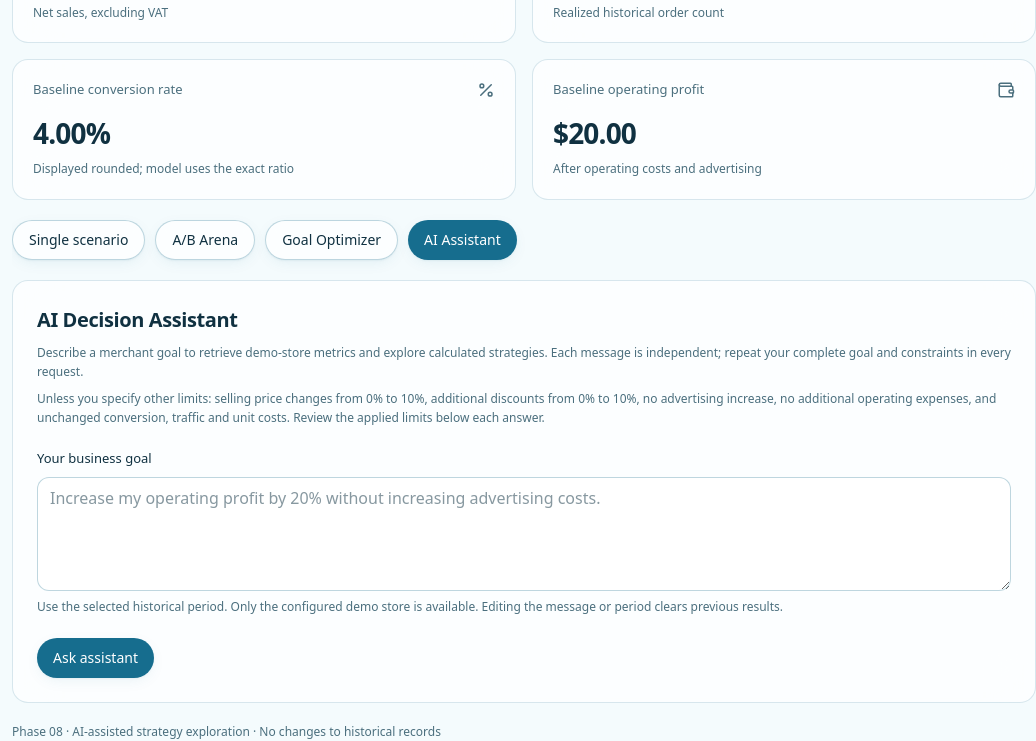
it: decision assistant workflow › shows clarifications without invented metrics or a transfer action
(page scrolled)
Check: the button "Ask assistant" is enabled, box left=37, top=638, right=154, bottom=678
Step 1. Replace the text in the text box labelled "Your business goal" with "Help improve my store." → (524, 534), box left=37, top=477, right=1011, bottom=591
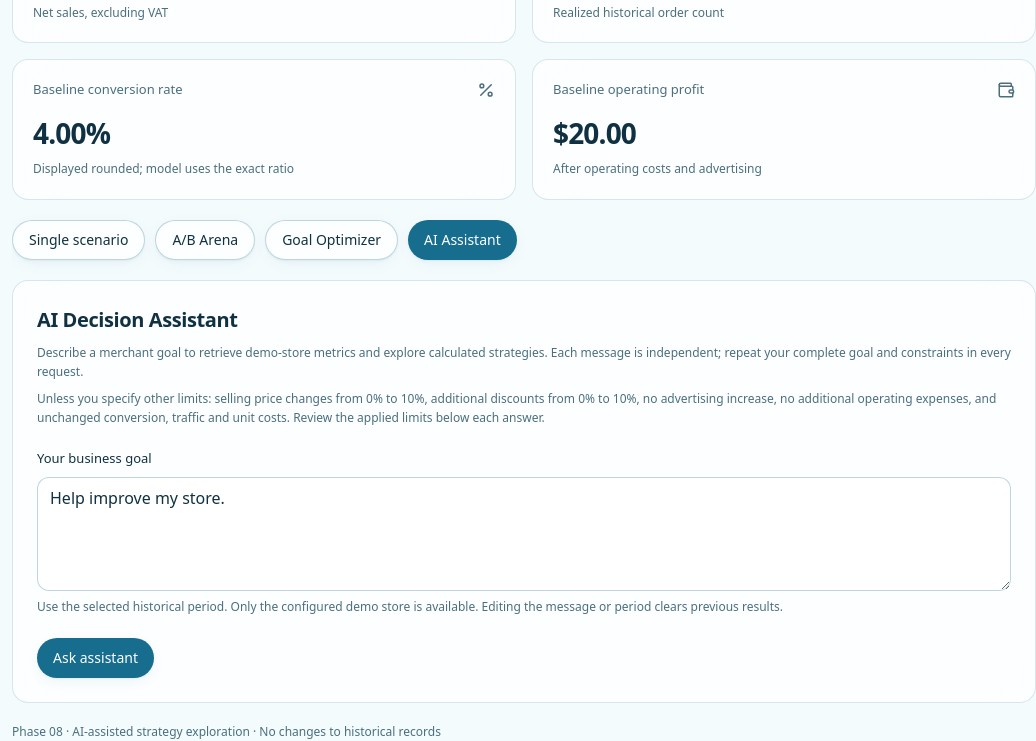
Step 2. Click the button "Ask assistant" → (96, 658), box left=37, top=638, right=154, bottom=678
(page scrolled)
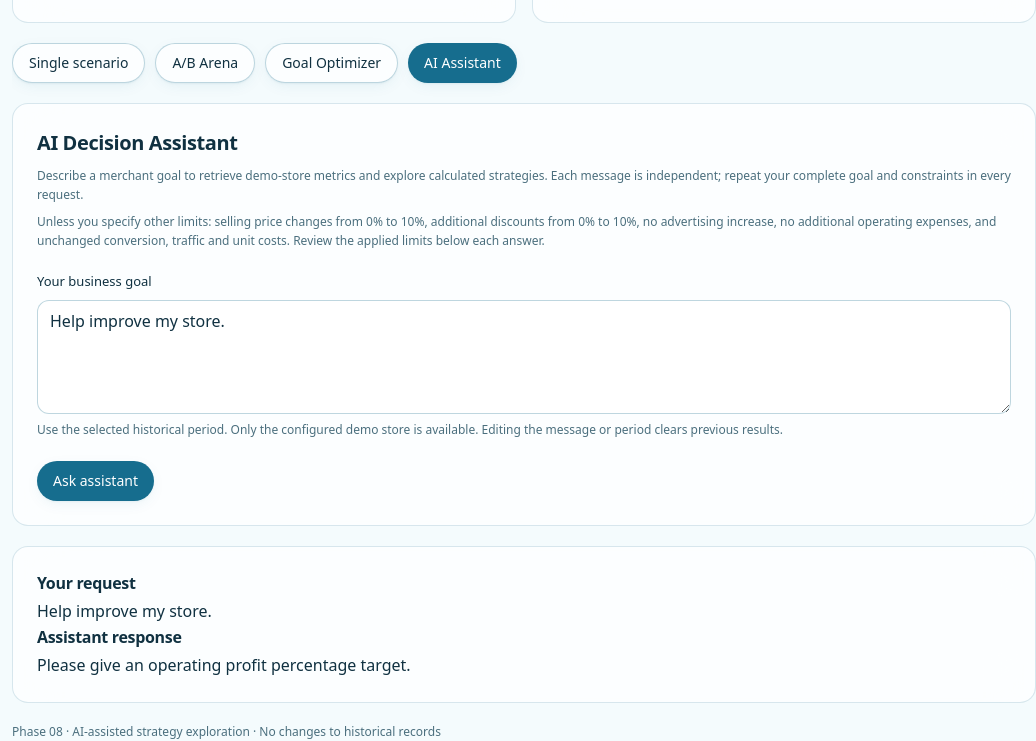
Check: the text "Please give an operating profit percentage target." is shown, box left=37, top=654, right=411, bottom=676
